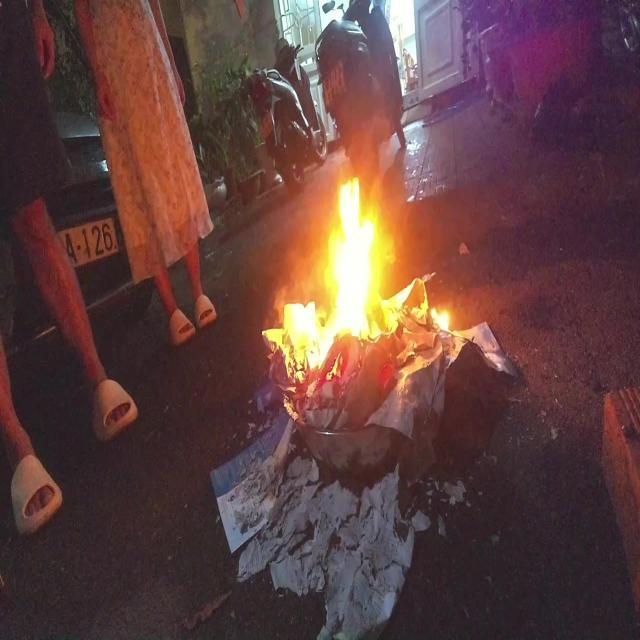Fire: (262, 174, 452, 403)
